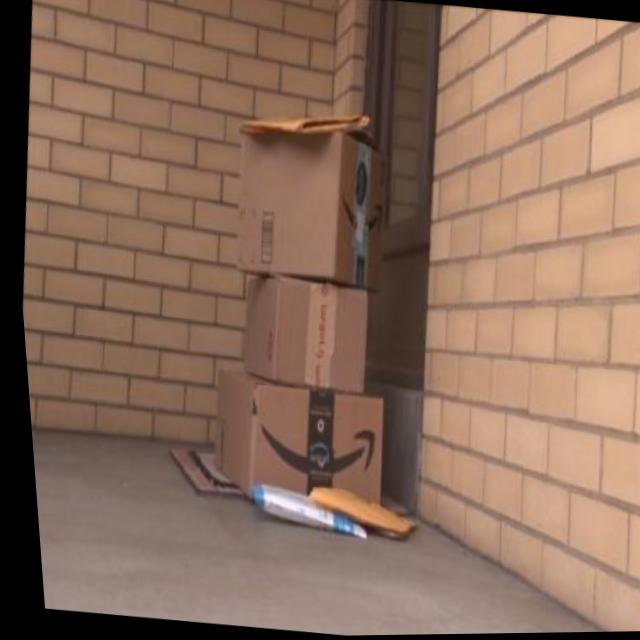box: (215, 99, 400, 304), (189, 346, 400, 524), (232, 272, 375, 390)
